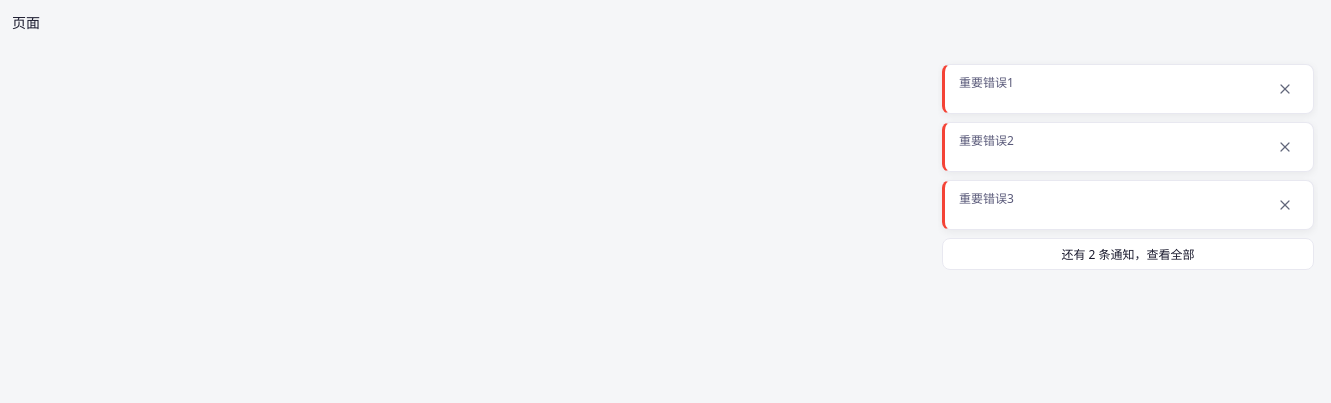
Scenario: toast reading time and notification queue › queues more than three important errors without deleting them and reveals all on demand
The image size is (1331, 403).
Check: the number of messages is 3, box x1=942 y1=64 x2=1314 y2=114; x1=942 y1=122 x2=1314 y2=172; x1=942 y1=180 x2=1314 y2=230
Check: the text "重要错误4" is not shown
Click the button "还有 2 条通知，查看全部" at (1128, 254), box x1=942 y1=238 x2=1314 y2=270
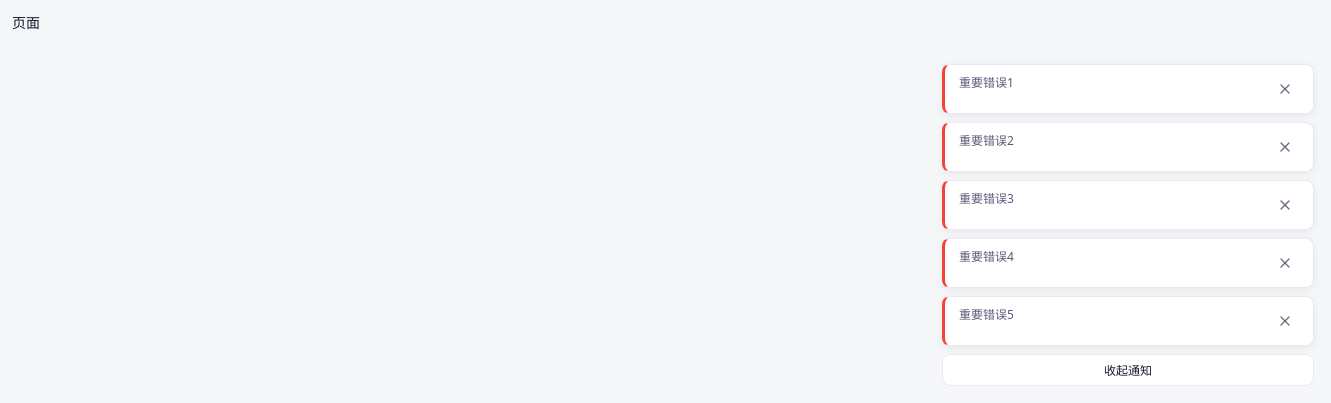
Check: the number of messages is 5, box x1=942 y1=64 x2=1314 y2=114; x1=942 y1=122 x2=1314 y2=172; x1=942 y1=180 x2=1314 y2=230; x1=942 y1=238 x2=1314 y2=288; x1=942 y1=296 x2=1314 y2=346
Check: the button "收起通知" is expanded
Check: the text "重要错误4" is shown, box x1=959 y1=248 x2=1014 y2=265
Click the button "收起通知" at (1128, 370), box x1=942 y1=354 x2=1314 y2=386
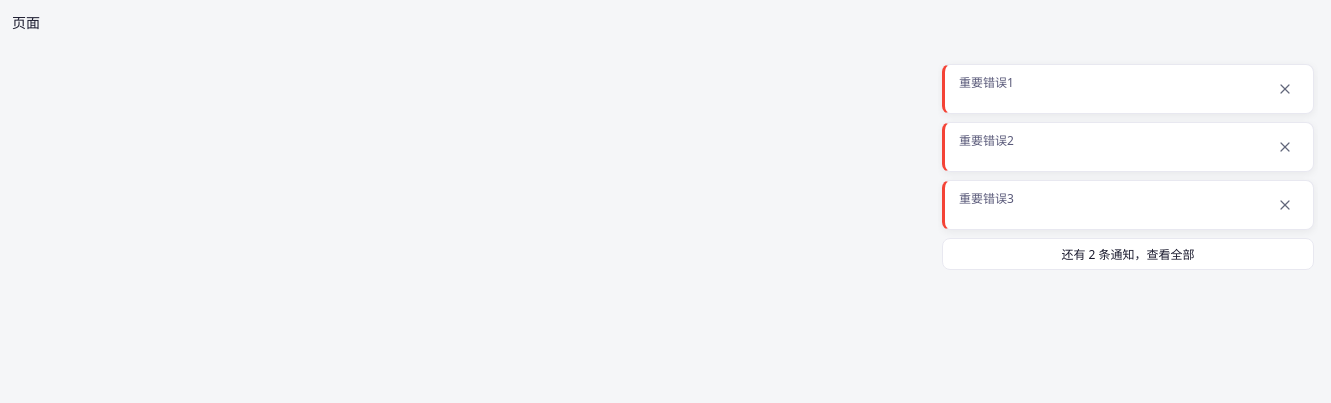
Click the button named "关闭通知：重要错误1" at (1285, 89), box x1=1271 y1=75 x2=1299 y2=103
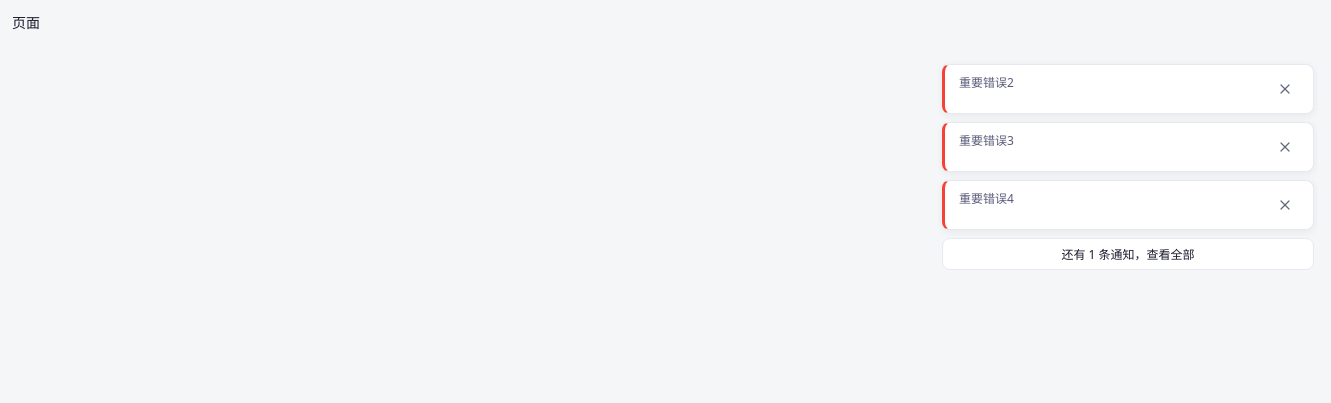
Check: the text "重要错误4" is shown, box x1=959 y1=190 x2=1014 y2=207
Click the button "还有 1 条通知，查看全部" at (1128, 254), box x1=942 y1=238 x2=1314 y2=270
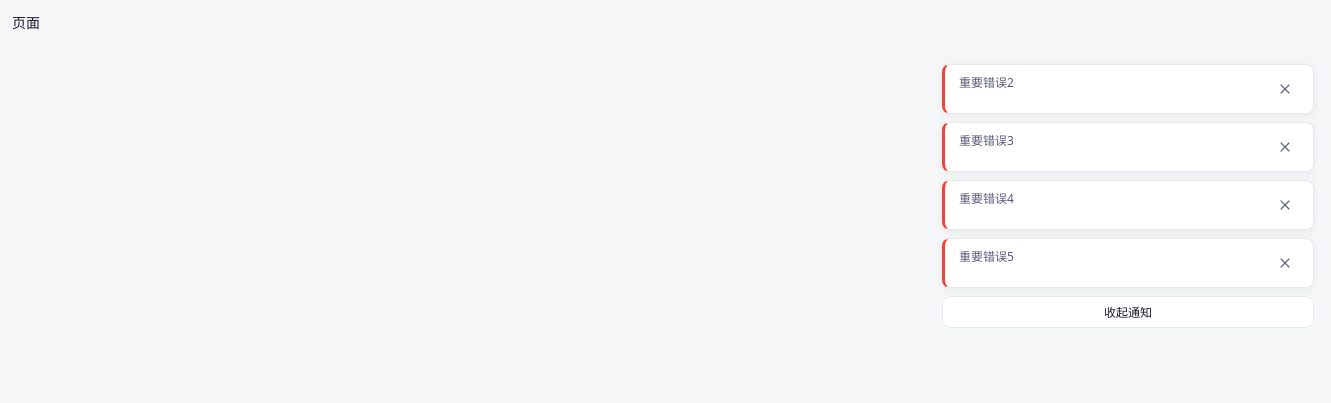
Check: the text "重要错误5" is shown, box x1=959 y1=248 x2=1014 y2=265
